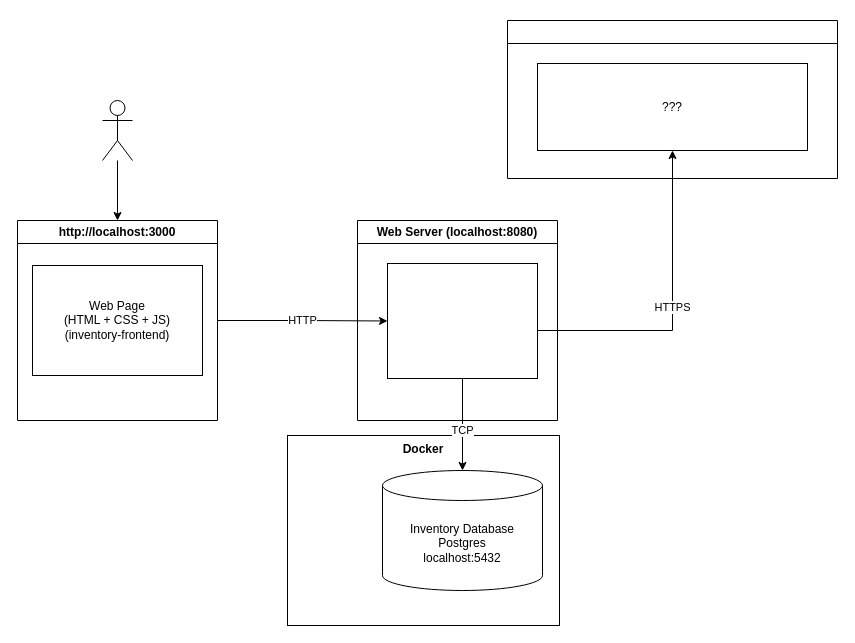
Image size: 855x643. Some labels were removed from this diagram. Each missing label, with the box of its shape:
inventory-backend (SpringBoot application): (386, 262, 538, 378)
User: (102, 100, 132, 160)
Web Server (https://currency-converter18.p.rapidapi.com ): (506, 20, 838, 178)
